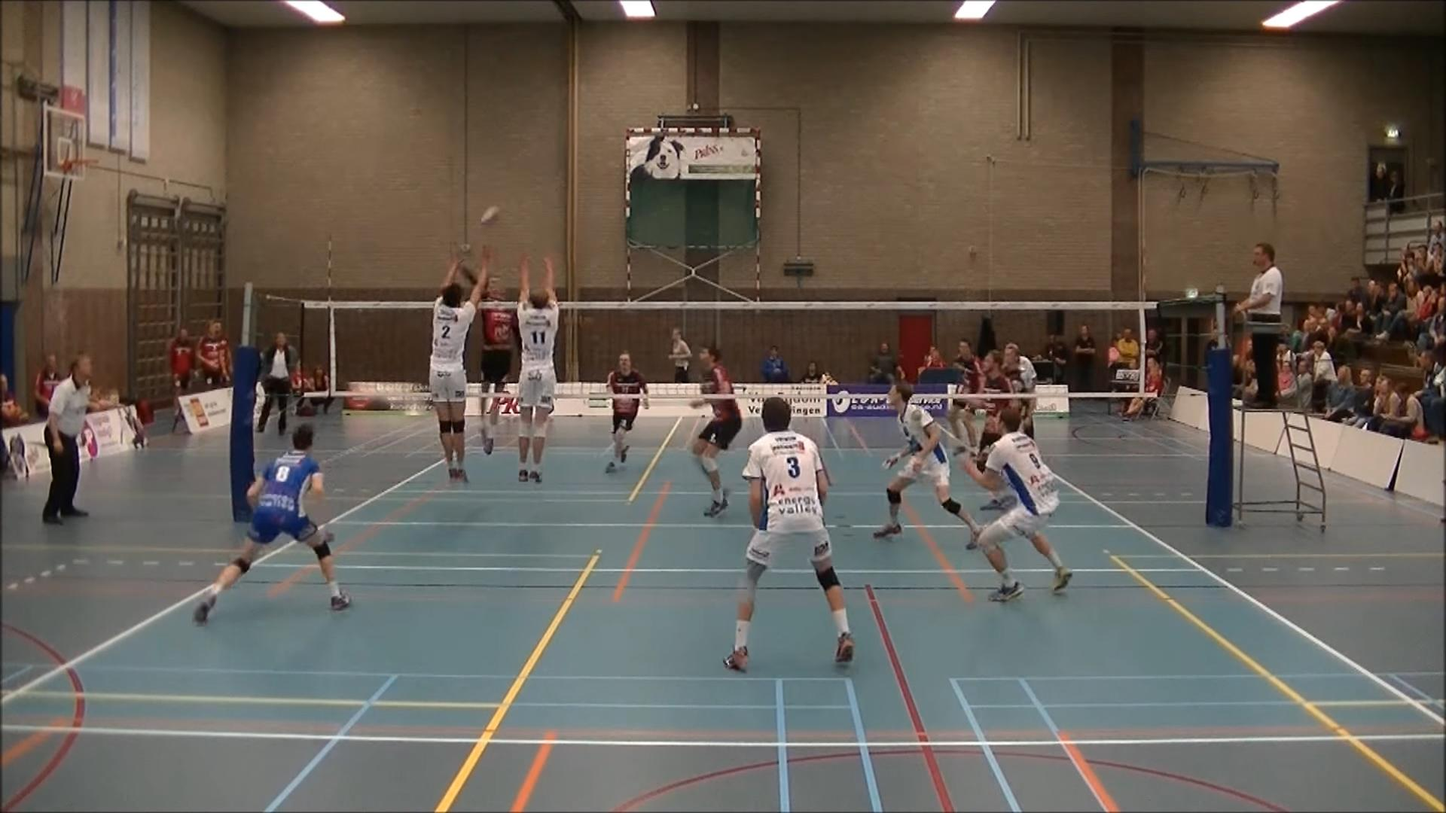attacco: (448, 248, 523, 463)
muro: (420, 250, 491, 487), (517, 258, 561, 489)
